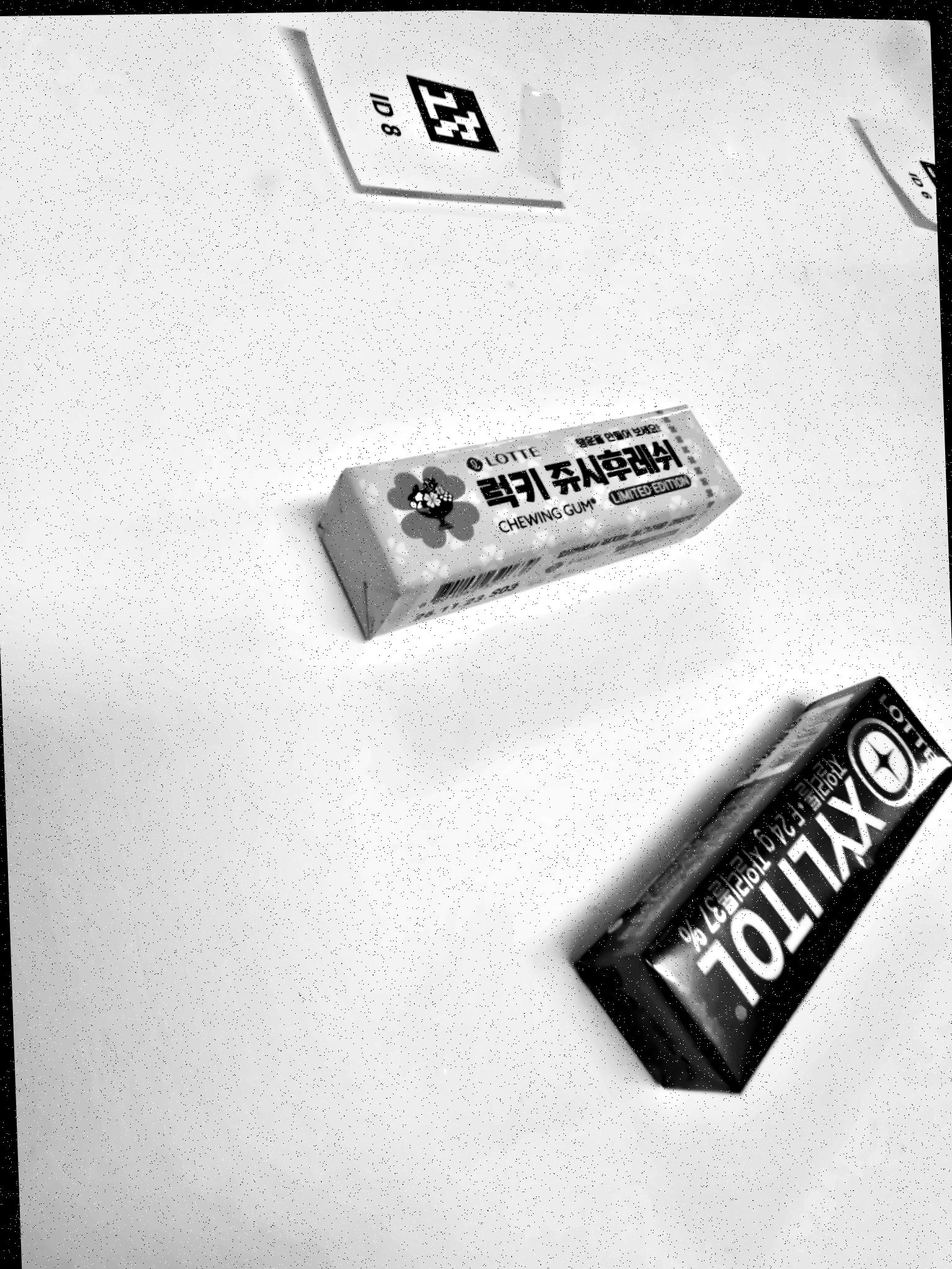gum_green: (576, 677, 952, 1092)
gum_yellow: (320, 405, 741, 639)
